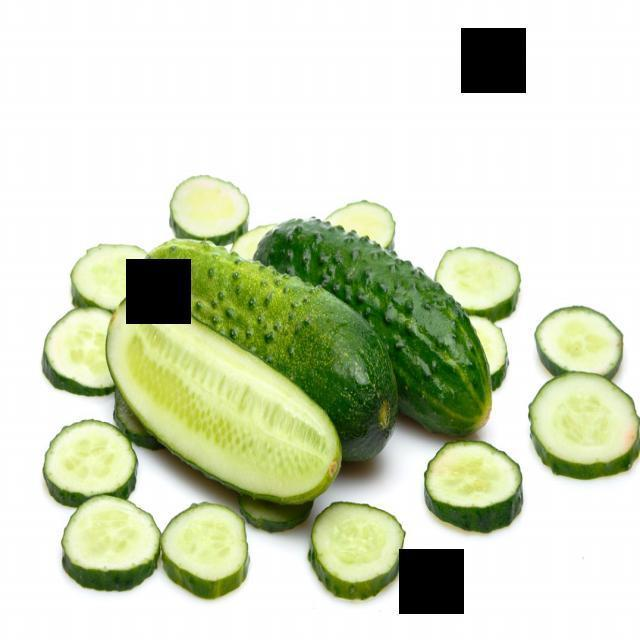cucumber: (36, 141, 628, 617), (102, 282, 338, 502), (518, 357, 640, 497), (50, 478, 184, 594), (525, 272, 621, 404), (22, 288, 150, 386), (159, 486, 261, 602), (420, 426, 526, 534), (292, 498, 408, 594)
